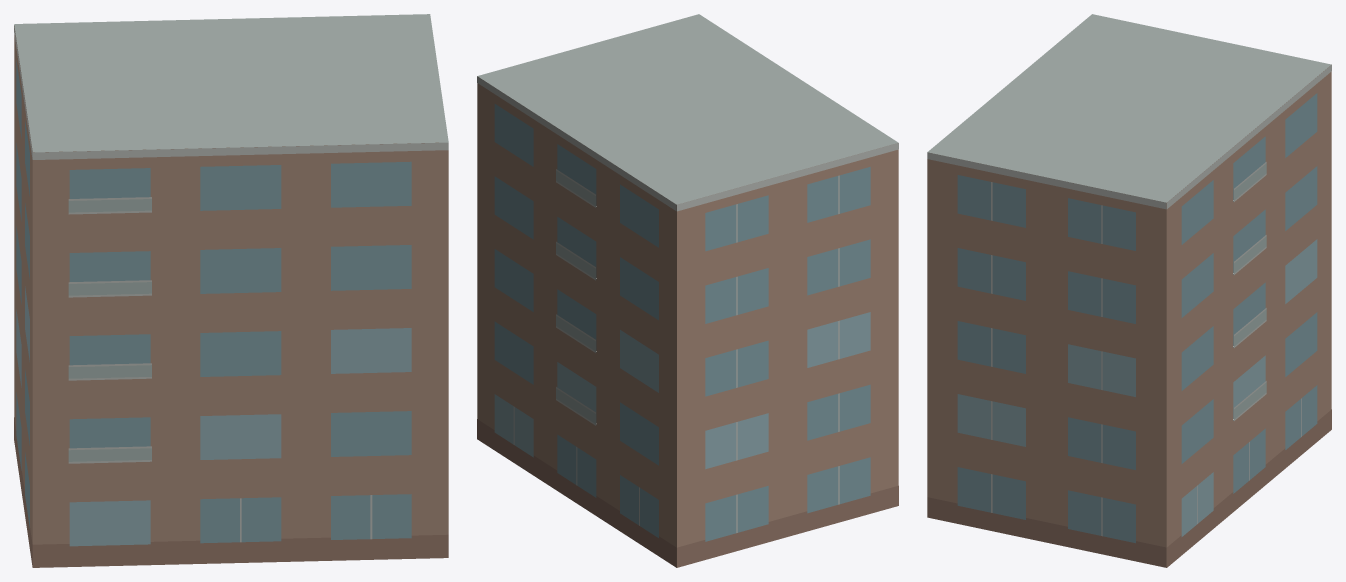
Rendered from survey-upis-32890978.glb.
The picture shows the model from 3 angles, left to right: view 1: azimuth 30°, elevation 25°; view 2: azimuth 150°, elevation 25°; view 3: azimuth 270°, elevation 25°; orthographic projection. The views are drawn at different scales.
Parts seen in each view (by area): view 1: survey-upis-32890978.tmp; view 2: survey-upis-32890978.tmp; view 3: survey-upis-32890978.tmp.
Part boxes in pixels (<box>): survey-upis-32890978.tmp: <box>14,14,448,567</box>; survey-upis-32890978.tmp: <box>477,14,898,567</box>; survey-upis-32890978.tmp: <box>927,14,1331,567</box>.
Size of the model in its own units: 14.58 by 13.15 by 13.21.
